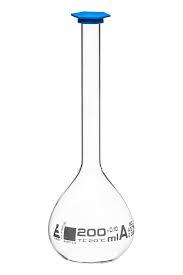Volumetric flask: (30, 7, 144, 263)
